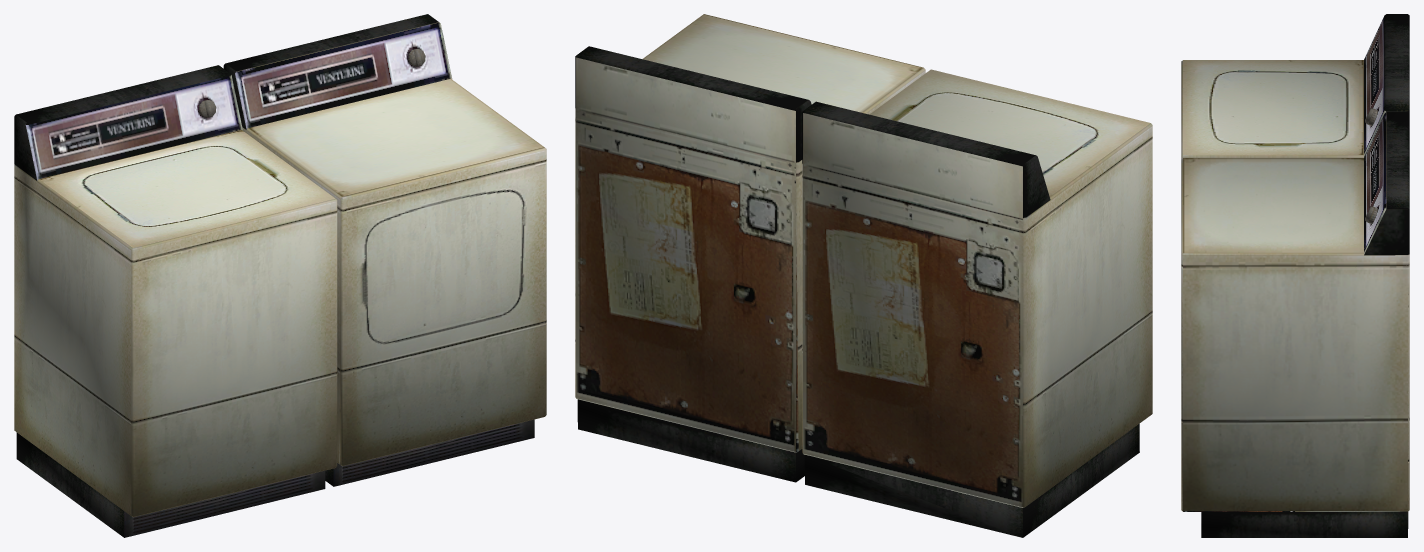
Rendered from washer+dryer.obj.
The picture shows the model from 3 angles, left to right: view 1: azimuth 30°, elevation 25°; view 2: azimuth 150°, elevation 25°; view 3: azimuth 270°, elevation 25°; orthographic projection. The views are drawn at different scales.
Visible parts, largest first — view 1: Model002_Model001_Model001_Model001_4_washer_1_0_0, Model001_Model001_Model001_5_Material2453_1.0_0.0_0.0; view 2: Model002_Model001_Model001_Model001_4_washer_1_0_0, Model001_Model001_Model001_5_Material2453_1.0_0.0_0.0; view 3: Model001_Model001_Model001_5_Material2453_1.0_0.0_0.0, Model002_Model001_Model001_Model001_4_washer_1_0_0.
Part boxes in pixels (bbox=[...]): Model002_Model001_Model001_Model001_4_washer_1_0_0: bbox=[14, 65, 337, 537]; Model001_Model001_Model001_5_Material2453_1.0_0.0_0.0: bbox=[223, 14, 546, 486]; Model002_Model001_Model001_Model001_4_washer_1_0_0: bbox=[802, 69, 1152, 537]; Model001_Model001_Model001_5_Material2453_1.0_0.0_0.0: bbox=[575, 14, 925, 482]; Model001_Model001_Model001_5_Material2453_1.0_0.0_0.0: bbox=[1181, 112, 1409, 537]; Model002_Model001_Model001_Model001_4_washer_1_0_0: bbox=[1181, 14, 1409, 159].
Bounding box in the file's own units: 1.41 × 1.12 × 0.6983.
